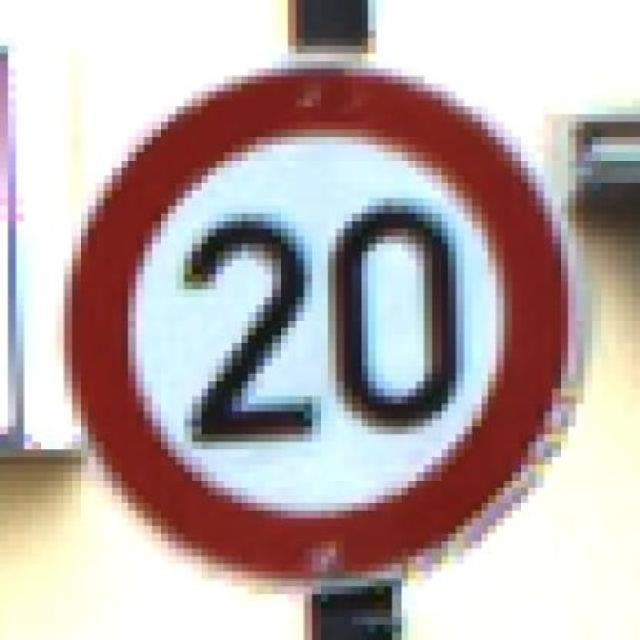forb_speed_over_20: (68, 69, 572, 583)
